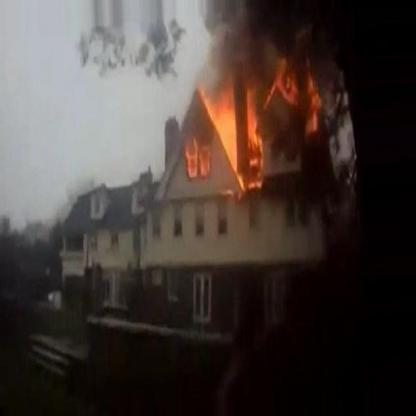fire: (189, 64, 322, 196)
